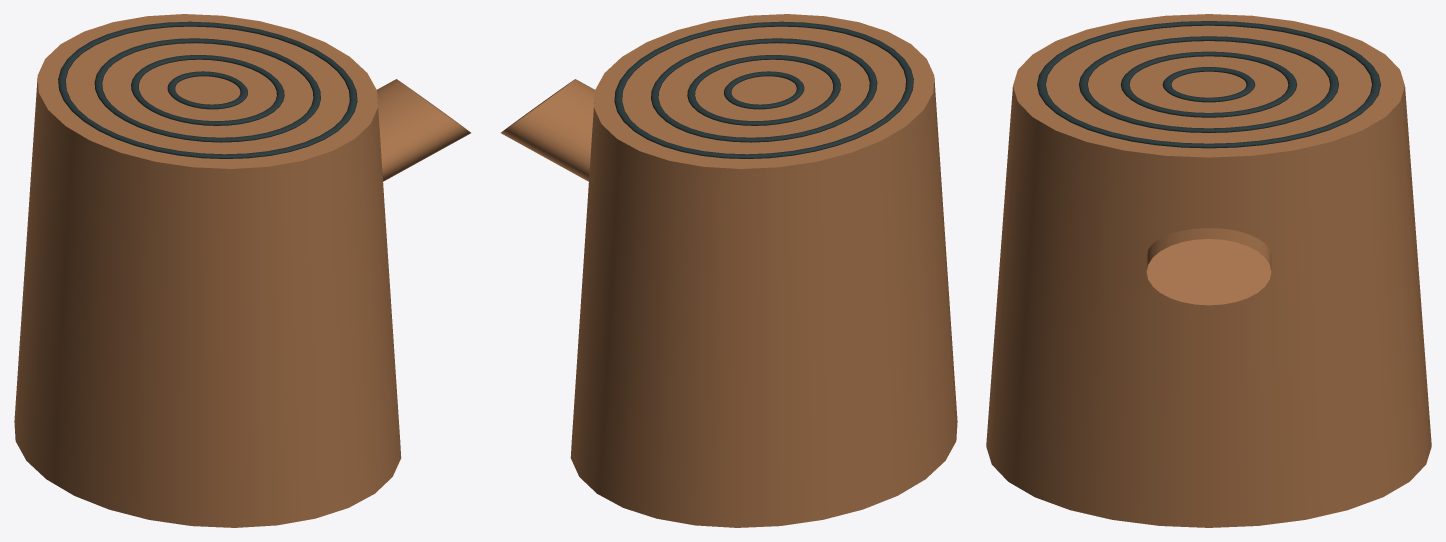
The model's file is wp-souche.glb.
3 renders of one model, left to right at view 1: azimuth 30°, elevation 25°; view 2: azimuth 150°, elevation 25°; view 3: azimuth 270°, elevation 25°, orthographic. The views are drawn at different scales.
Parts seen in each view (by area): view 1: wp-souche; view 2: wp-souche; view 3: wp-souche.
Boxes of the visible parts, left/top/right/bottom form: wp-souche: left=14, top=14, right=470, bottom=527; wp-souche: left=501, top=14, right=957, bottom=527; wp-souche: left=986, top=14, right=1431, bottom=527.
Bounding box in the file's own units: 0.55 × 0.45 × 0.5.
